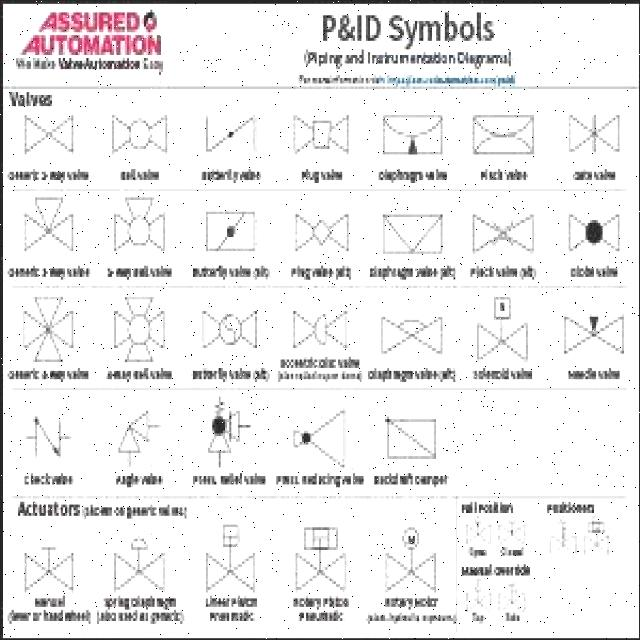3 Way Ball Valve: (83, 187, 181, 261)
3 Way Gate Valve: (19, 190, 79, 254)
4 Way Ball Valve: (106, 290, 187, 365)
4 Way Gate Valve: (12, 286, 77, 360)
Angle Valve: (116, 399, 154, 458)
Ball Valve: (102, 104, 175, 169)
Butterfly Valve: (188, 102, 264, 162)
Check Valve: (19, 409, 75, 462)
Gate Valve: (17, 109, 81, 160)
Globe Valve: (544, 192, 622, 264)
Hand Operated Gate Valve: (6, 540, 80, 596)
Needle Valve: (551, 100, 626, 160), (552, 307, 628, 350)
PSV: (186, 389, 254, 466)
Plug Valve: (266, 201, 356, 253), (284, 107, 364, 162)
